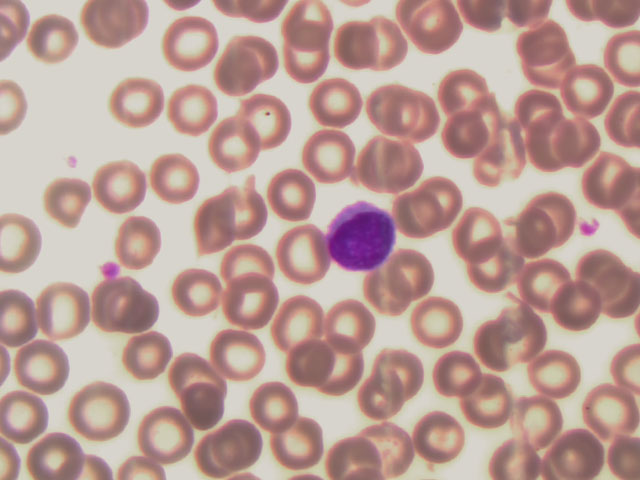Platelets: (575, 215, 603, 243), (94, 258, 127, 281)
RBC: (106, 74, 167, 131), (165, 83, 226, 140), (199, 120, 260, 177), (237, 88, 298, 145), (211, 41, 272, 98), (225, 28, 286, 85), (155, 14, 216, 71), (323, 18, 384, 75), (278, 35, 339, 92), (303, 73, 364, 130), (356, 78, 417, 135), (379, 87, 440, 144), (431, 57, 492, 114), (439, 94, 500, 151), (471, 123, 532, 180), (551, 113, 612, 170), (519, 116, 580, 173), (508, 81, 569, 138), (563, 62, 624, 119), (525, 45, 586, 102), (519, 18, 580, 75), (405, 2, 466, 59), (526, 190, 587, 247), (507, 206, 568, 263), (466, 244, 527, 301), (449, 211, 510, 268), (427, 174, 488, 231), (398, 186, 459, 243), (383, 135, 444, 192), (342, 128, 403, 185), (313, 129, 374, 186), (263, 167, 324, 224), (221, 183, 282, 240), (186, 197, 247, 254), (145, 148, 206, 205), (91, 157, 152, 214), (40, 174, 101, 231), (33, 280, 94, 337), (13, 340, 74, 397), (74, 380, 135, 437), (117, 325, 178, 382), (96, 276, 157, 333), (162, 262, 223, 319), (112, 212, 173, 269), (219, 235, 280, 292), (219, 273, 280, 330), (266, 294, 327, 351), (211, 326, 272, 383), (169, 341, 230, 398), (170, 379, 231, 436), (136, 405, 197, 462), (244, 378, 305, 435), (207, 417, 268, 474), (27, 423, 88, 480), (267, 415, 328, 472), (286, 342, 347, 399), (317, 339, 378, 396), (327, 295, 388, 352), (354, 269, 415, 326), (384, 249, 445, 306), (405, 295, 466, 352), (426, 337, 487, 394), (373, 351, 434, 408), (460, 378, 521, 435), (509, 392, 570, 449), (536, 352, 597, 409), (482, 311, 543, 368), (511, 257, 572, 314), (543, 280, 604, 337), (576, 248, 637, 305), (579, 382, 640, 439), (546, 423, 607, 480), (412, 407, 473, 464), (356, 418, 417, 475), (22, 14, 83, 71), (1, 390, 61, 447), (277, 1, 338, 57), (88, 1, 149, 57)
WBC: (329, 200, 398, 271)
